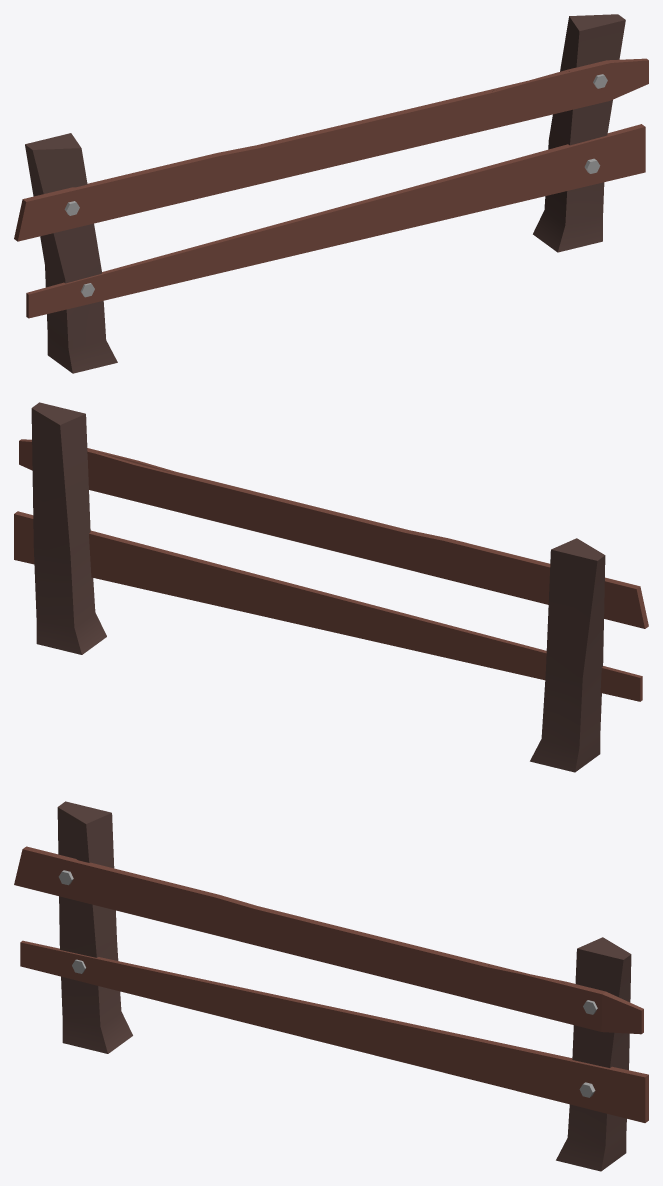
File: western_fence 1.fbx
3 renders of one model, top to bottom at view 1: azimuth 30°, elevation 25°; view 2: azimuth 150°, elevation 25°; view 3: azimuth 330°, elevation 25°, orthographic.
Parts seen in each view (by area): view 1: pCube5; view 2: pCube5; view 3: pCube5.
Part boxes in pixels (<box>): pCube5: <box>14,14,648,373</box>; pCube5: <box>14,402,648,772</box>; pCube5: <box>14,801,648,1171</box>.
Size of the model in its own units: 4.29 by 1.41 by 0.3556.
